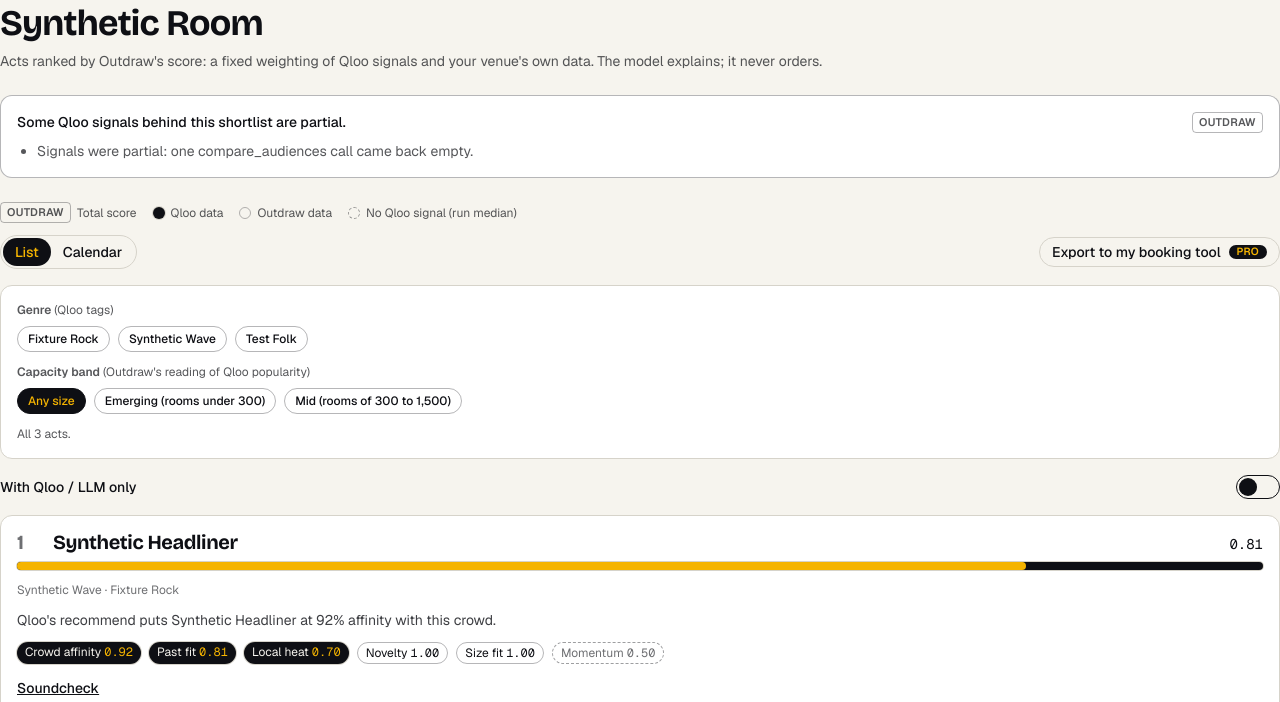
holds calendar › falls back to this run's holds when the venue read fails
The width and height of the screenshot is (1280, 702).
Click the button "Calendar".
click(93, 252)  # box [51,238,134,266]
(page scrolled)
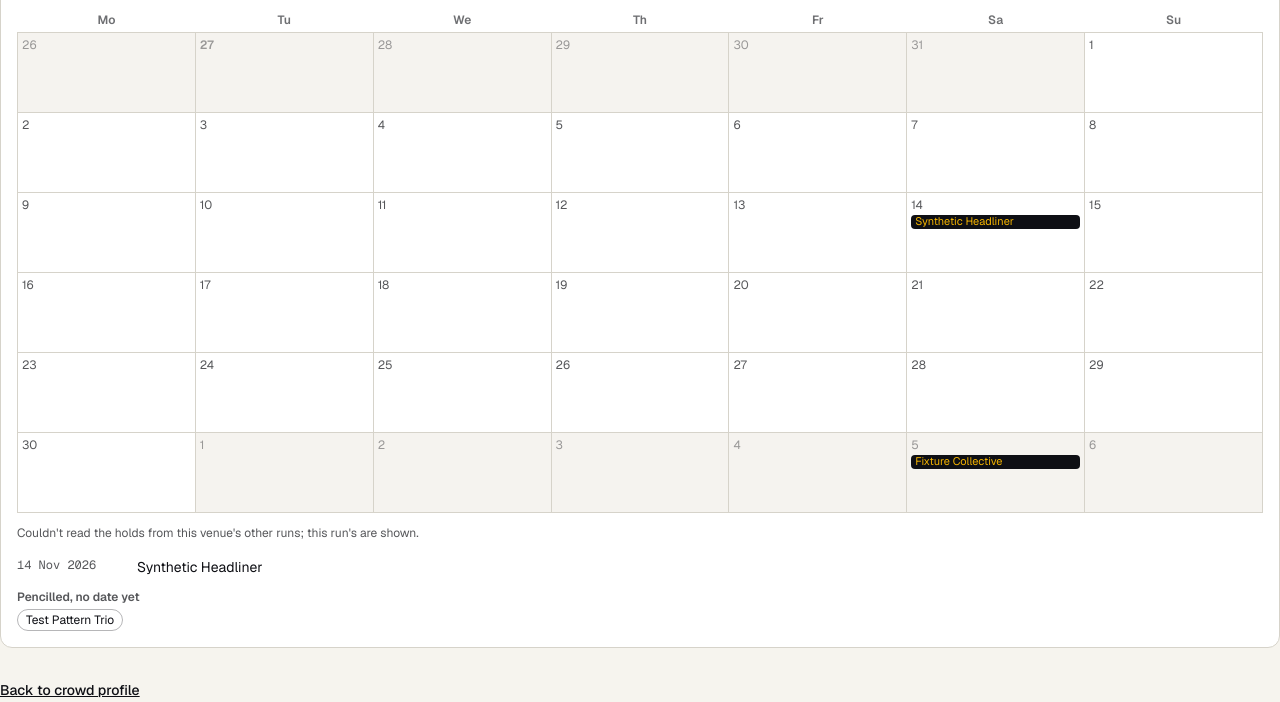
expect the message shows "other runs": met, box [17,525,419,541]
expect the number of list items with test id "calendar-hold" is 2: met, box [911,215,1080,229]; [911,455,1080,469]
